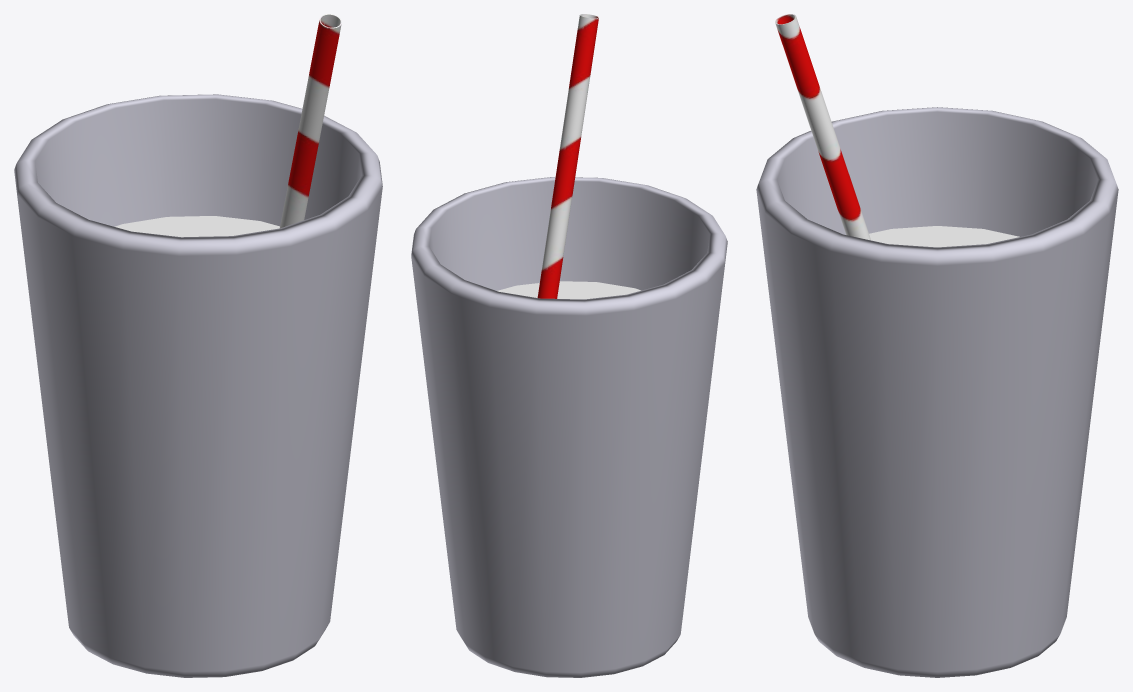
The model's file is Milk.fbx.
3 views of the same model, side by side, from view 1: azimuth 30°, elevation 25°; view 2: azimuth 150°, elevation 25°; view 3: azimuth 270°, elevation 25° (orthographic). The views are drawn at different scales.
Visible parts, largest first — view 1: glass, milk; view 2: glass, milk; view 3: glass, milk.
Part boxes in pixels (<box>): glass: <box>14,94,382,677</box>; milk: <box>115,14,341,237</box>; glass: <box>411,177,727,677</box>; milk: <box>497,14,640,299</box>; glass: <box>756,107,1118,677</box>; milk: <box>775,14,1019,247</box>.
Bounding box in the file's own units: 10.14 × 19.65 × 10.14.
2 materials, 2 textured.
